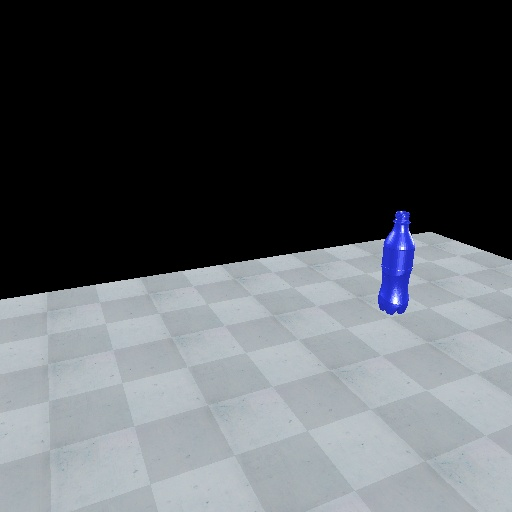bottle: (374, 208, 422, 316)
